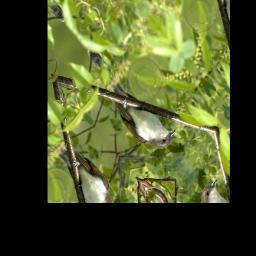Cuckoo: (85, 48, 182, 165)
